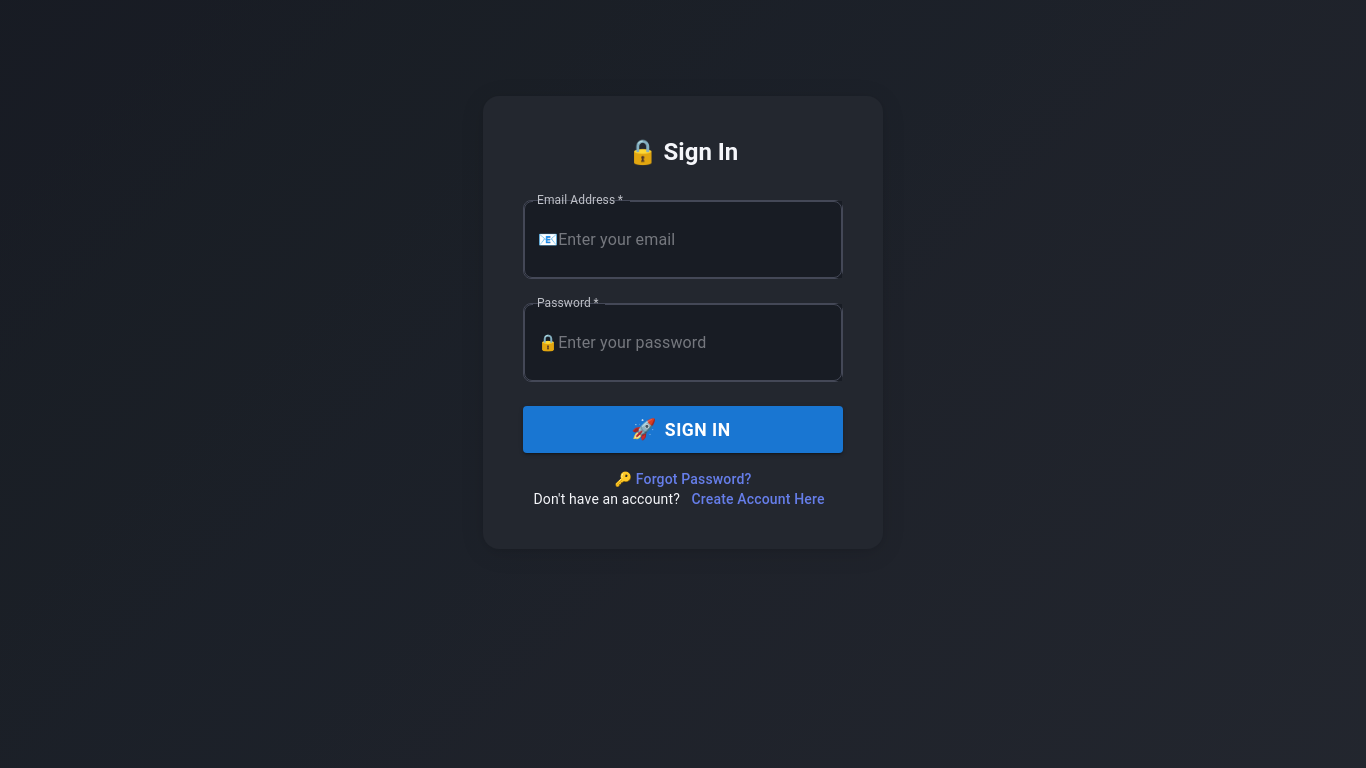
Test case: Login Component › shows validation error for invalid email
Type "invalid" into the field labelled "Email Address *" at (700, 240), box [558,201,842,278]
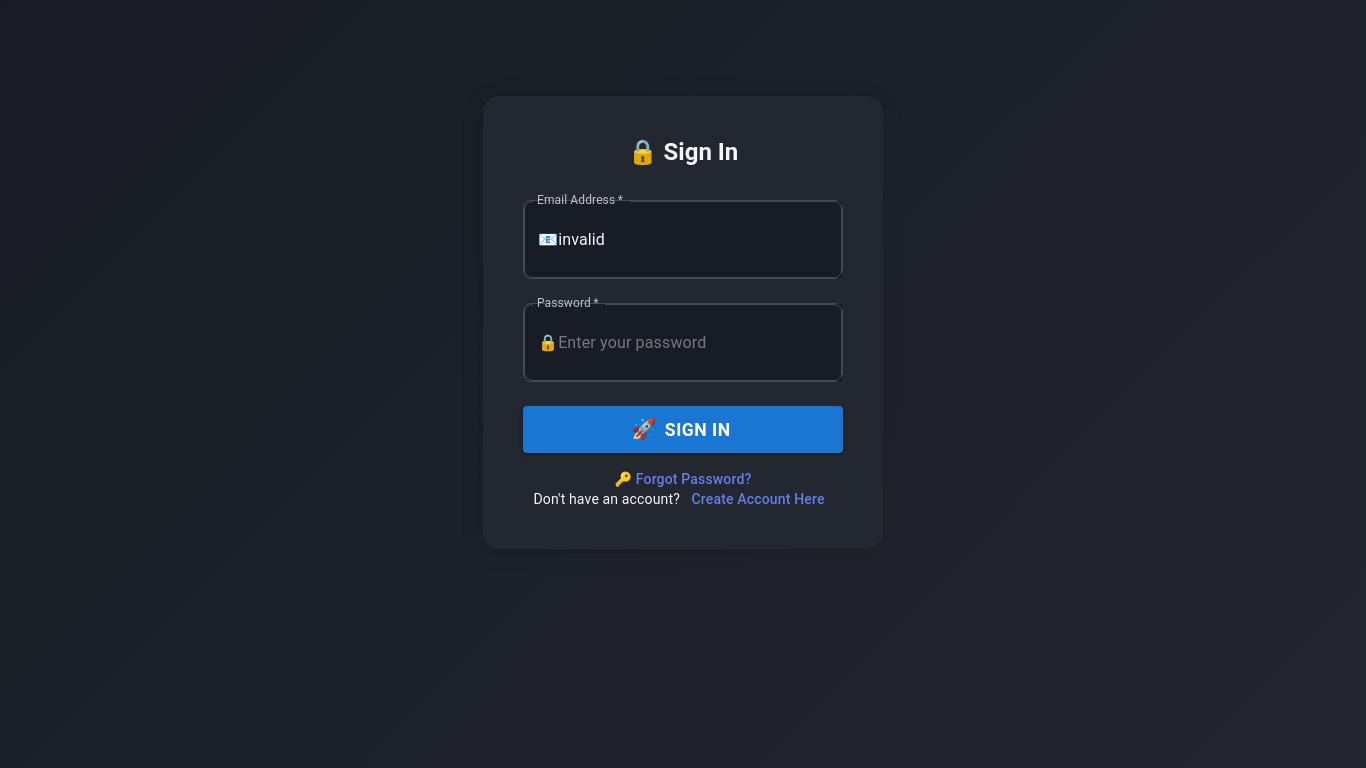
Type "password123" into the password field labelled "Password *" at (700, 343), box [558,304,842,381]
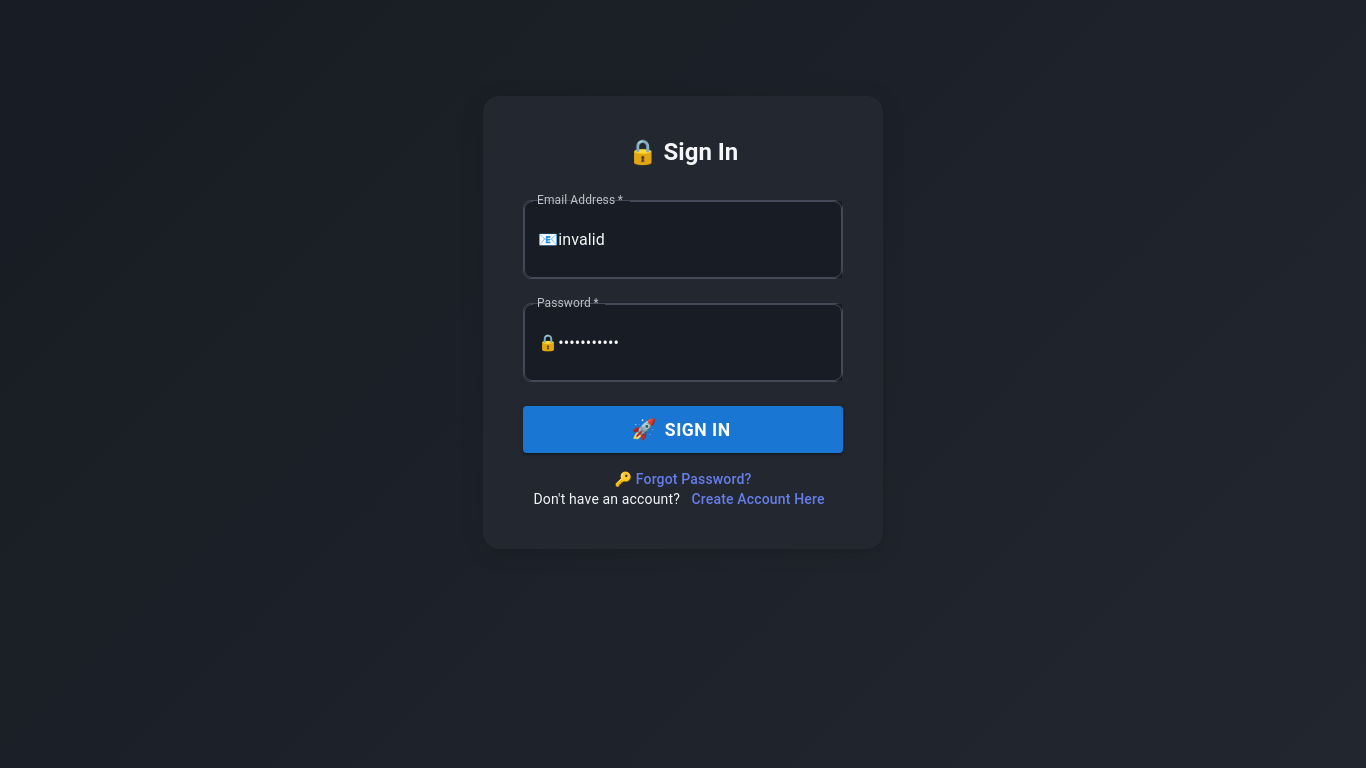
Click the button "🚀 Sign In" at (683, 430), box [523,406,843,453]
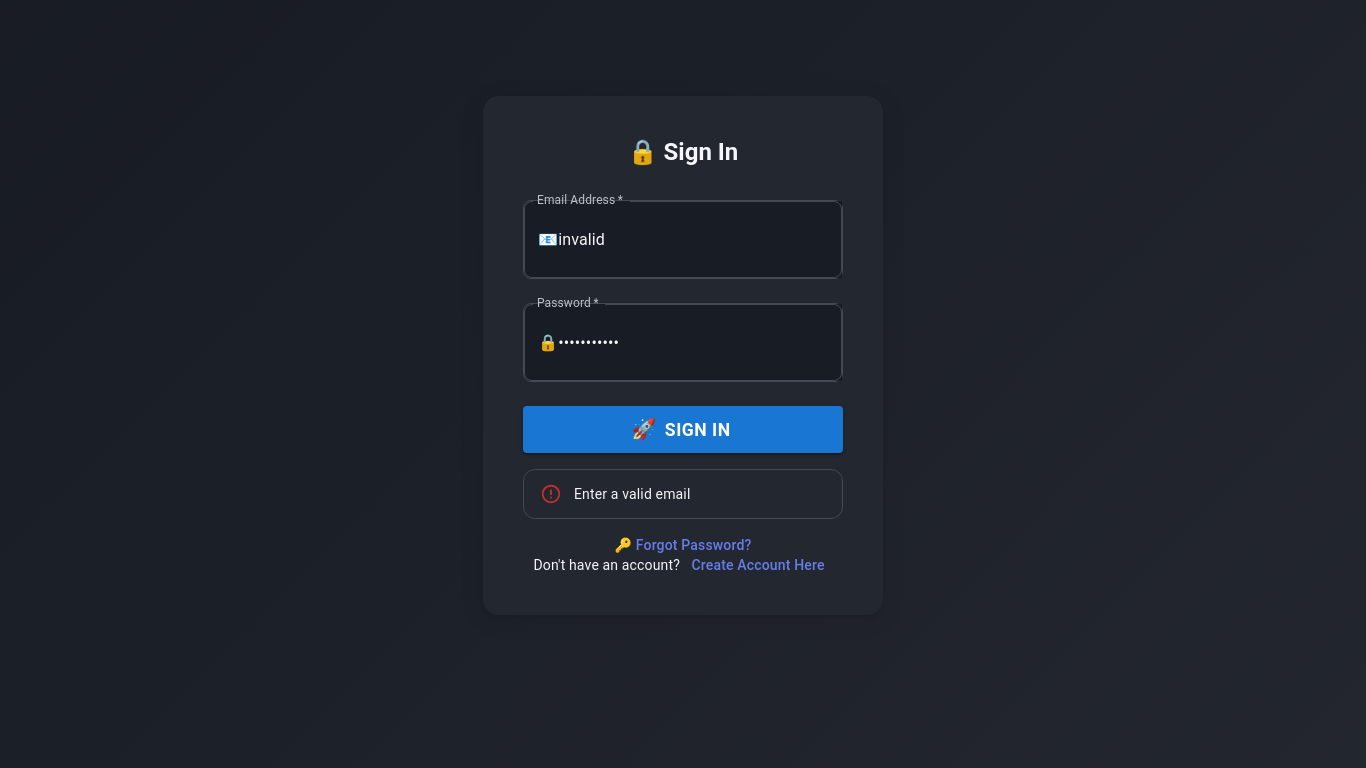
Result: the text "Enter a valid email" is shown at [574,486,690,502]
